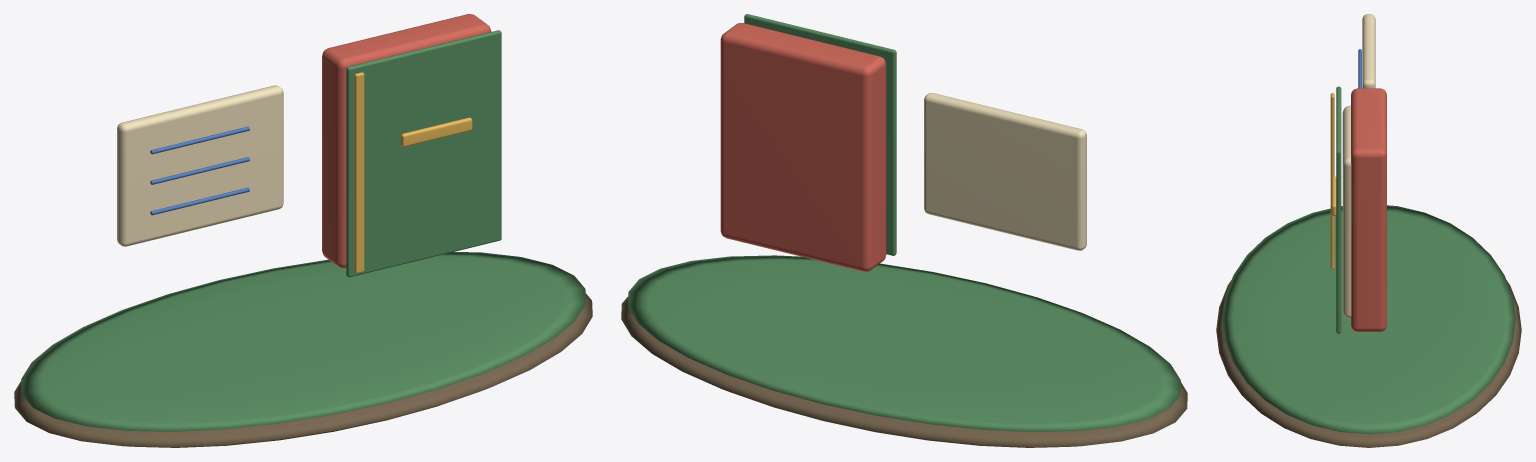
Rendered from character-dictionary.glb.
The picture shows the model from 3 angles, left to right: view 1: azimuth 30°, elevation 25°; view 2: azimuth 150°, elevation 25°; view 3: azimuth 270°, elevation 25°; orthographic projection. The views are drawn at different scales.
Visible parts, largest first — view 1: character-dictionary_surface_01, character-dictionary_surface_02, character-dictionary_surface_00, character-dictionary_surface_04, character-dictionary_surface_05, character-dictionary_surface_03; view 2: character-dictionary_surface_01, character-dictionary_surface_04, character-dictionary_surface_02, character-dictionary_surface_00; view 3: character-dictionary_surface_01, character-dictionary_surface_04, character-dictionary_surface_00, character-dictionary_surface_02, character-dictionary_surface_05.
Part boxes in pixels (x1=…): character-dictionary_surface_01: x1=21, y1=30, x2=585, y2=431; character-dictionary_surface_02: x1=117, y1=85, x2=283, y2=246; character-dictionary_surface_00: x1=14, y1=293, x2=592, y2=447; character-dictionary_surface_04: x1=322, y1=14, x2=491, y2=267; character-dictionary_surface_05: x1=354, y1=72, x2=472, y2=273; character-dictionary_surface_03: x1=150, y1=126, x2=249, y2=215; character-dictionary_surface_01: x1=628, y1=14, x2=1180, y2=432; character-dictionary_surface_04: x1=720, y1=23, x2=886, y2=271; character-dictionary_surface_02: x1=924, y1=93, x2=1086, y2=250; character-dictionary_surface_00: x1=621, y1=296, x2=1187, y2=447; character-dictionary_surface_01: x1=1222, y1=86, x2=1515, y2=434; character-dictionary_surface_04: x1=1351, y1=88, x2=1386, y2=331; character-dictionary_surface_00: x1=1216, y1=280, x2=1521, y2=447; character-dictionary_surface_02: x1=1342, y1=14, x2=1375, y2=318; character-dictionary_surface_05: x1=1330, y1=93, x2=1336, y2=269.
Bounding box in the file's own units: 4.56 × 2.44 × 2.5.
